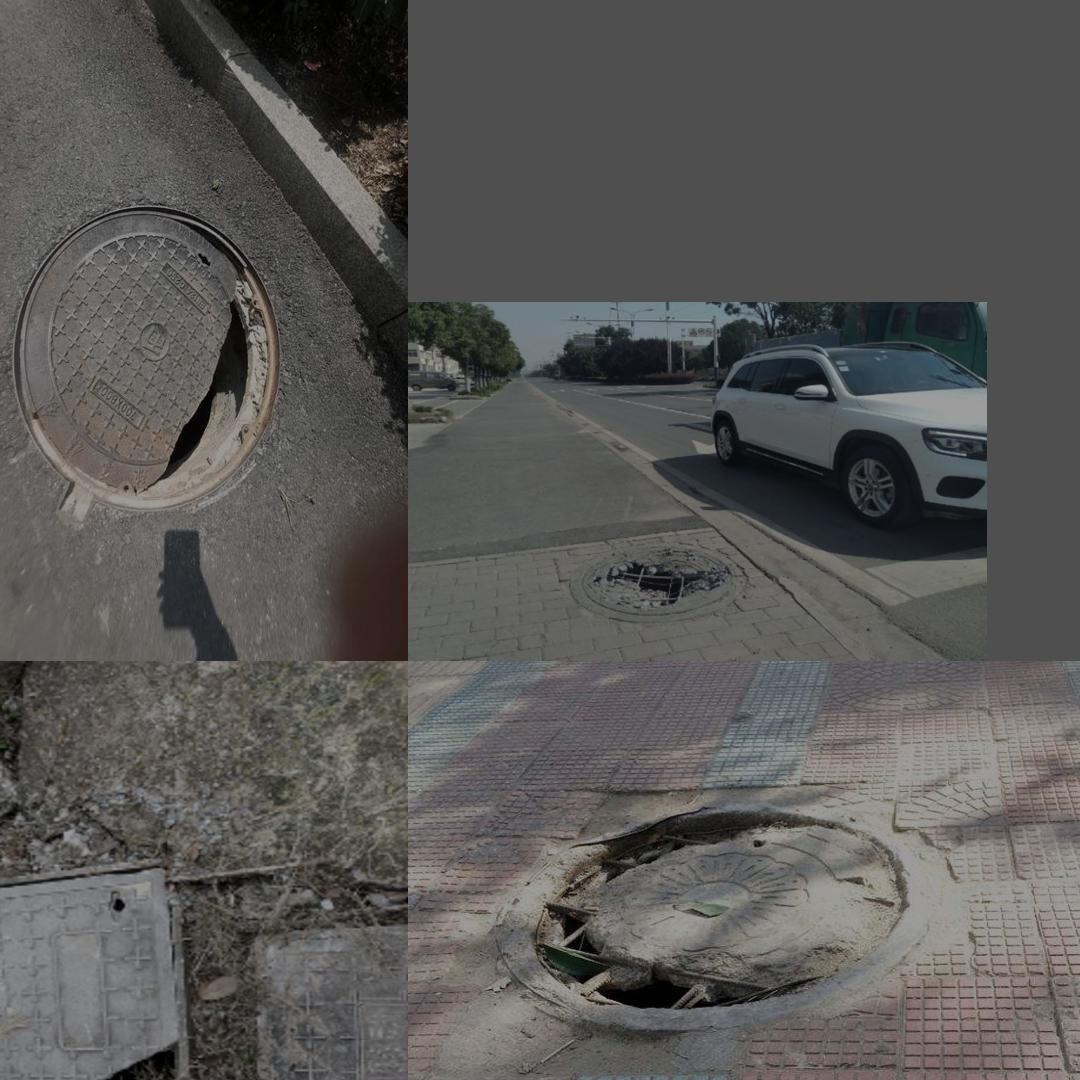broke: (6, 186, 288, 523), (510, 806, 934, 1016), (0, 896, 200, 1080), (568, 541, 745, 621)
